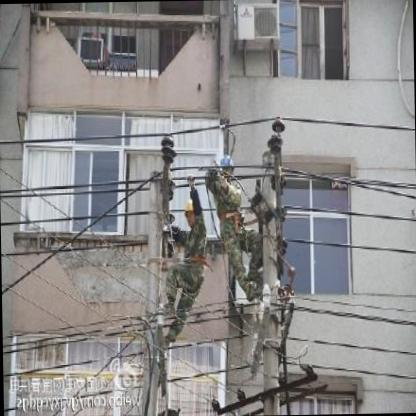helmet: (216, 152, 237, 188), (181, 195, 202, 229)
